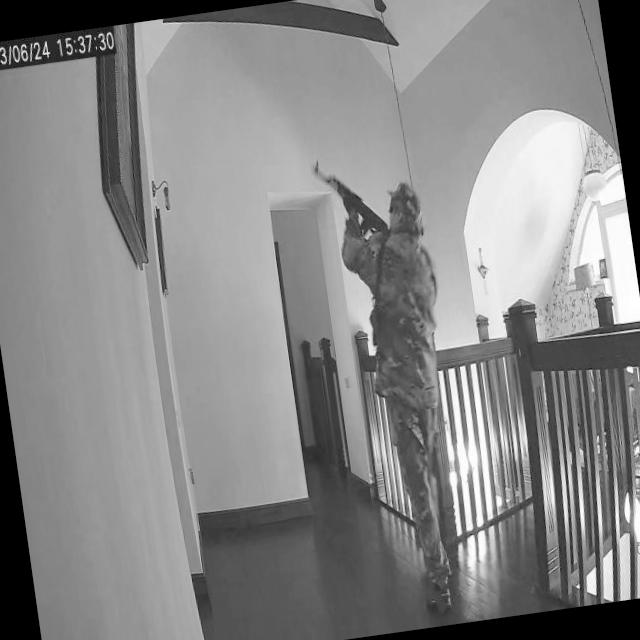gun: (310, 142, 391, 248)
person with a gun: (306, 136, 482, 624)
